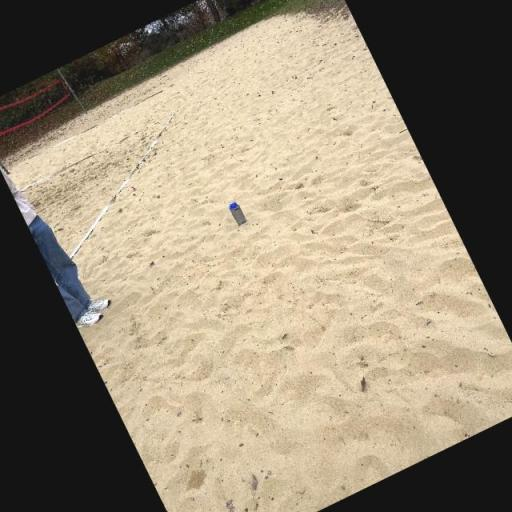bottle: (226, 200, 248, 226)
